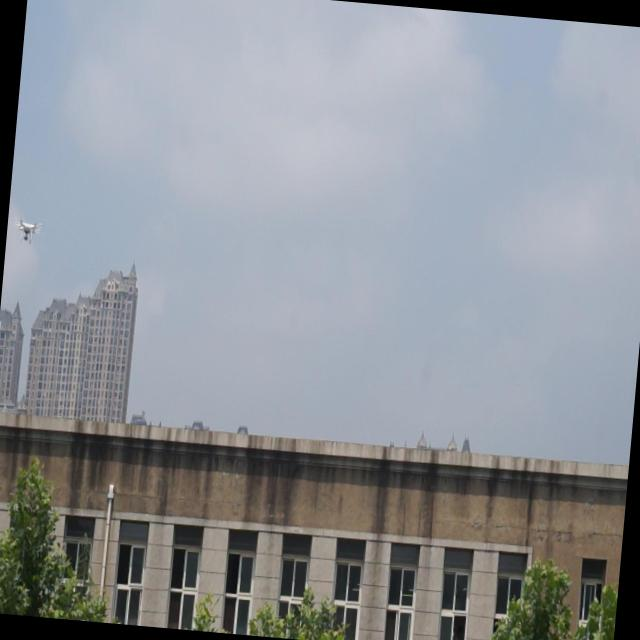drone: (12, 214, 44, 250)
